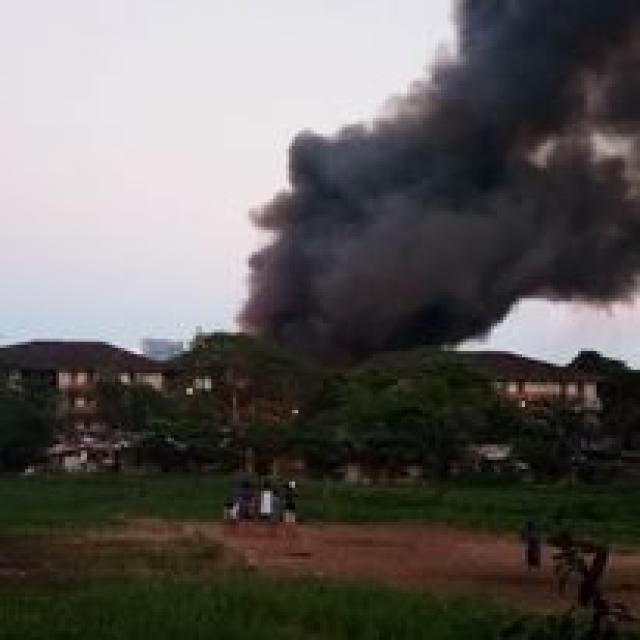Smoke: (236, 0, 637, 360)
